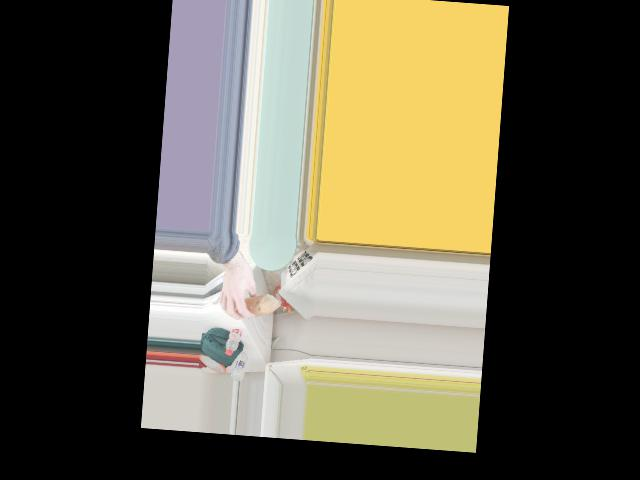sweet_potato: (229, 292, 279, 317)
